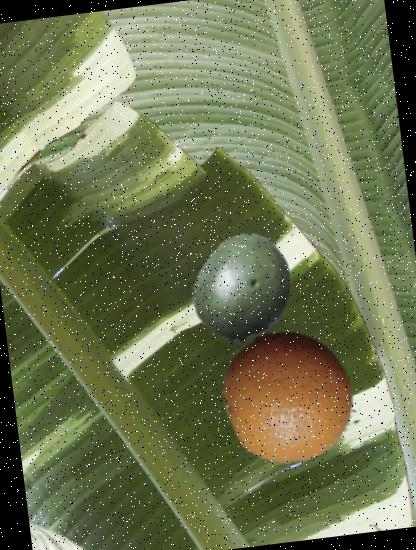Mango: (180, 226, 307, 354)
Orange: (213, 323, 361, 471)
